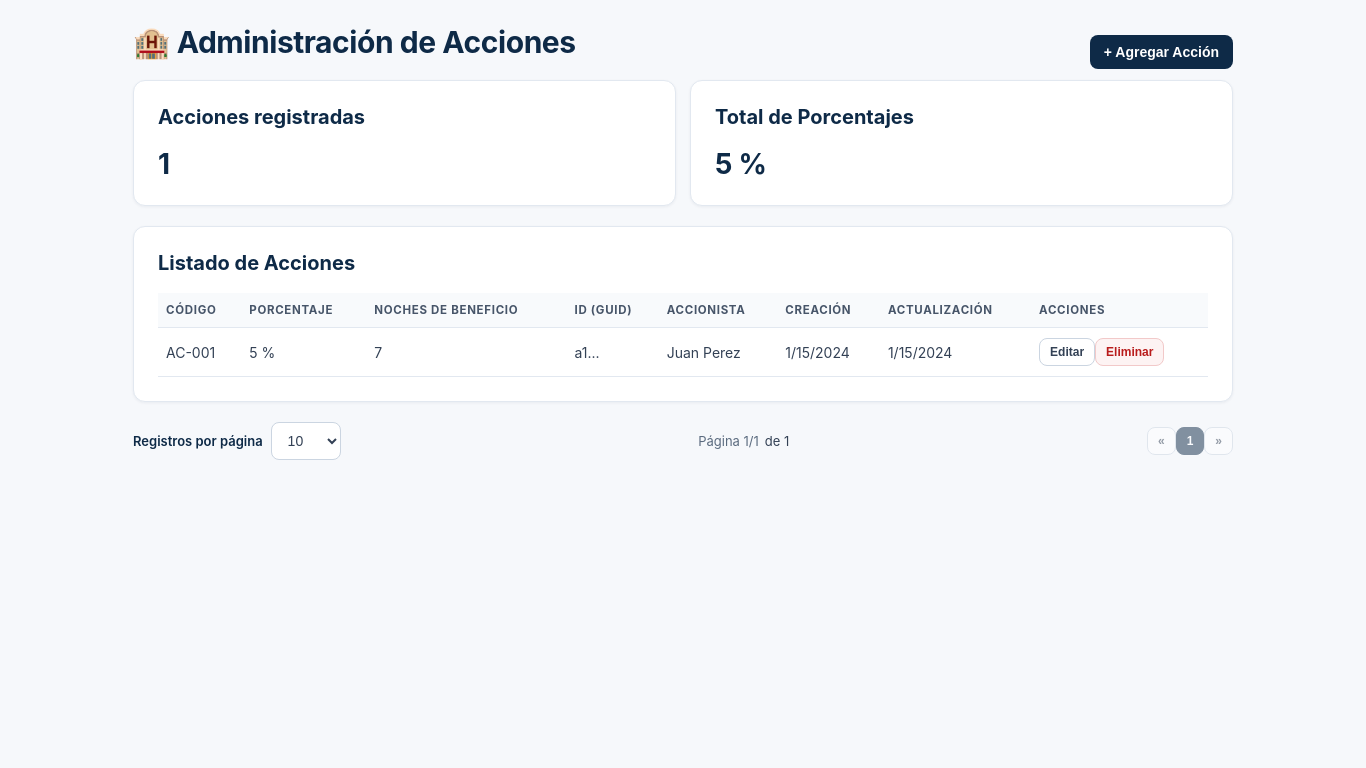
AccionesManager › pide confirmación en un popup antes de eliminar y envía DELETE al confirmar
The image size is (1366, 768).
Expected: the text "AC-001" is shown, top-left (158, 328), bottom-right (241, 377)
Step 1. Click the button "Eliminar" → (1130, 352), box top-left (1095, 338), bottom-right (1164, 366)
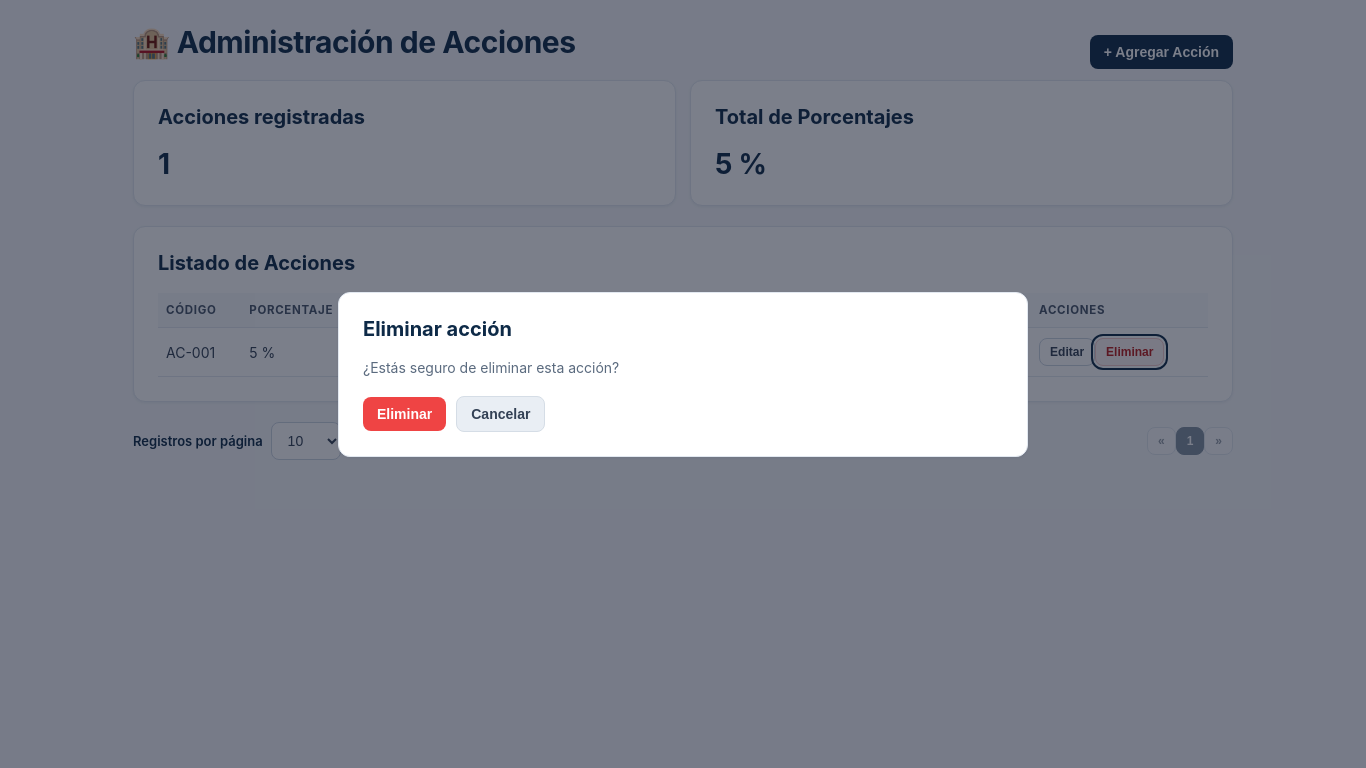
Expected: the dialog is shown, top-left (338, 292), bottom-right (1028, 456)
Expected: the text "¿Estás seguro de eliminar esta acción?" is shown, top-left (363, 358), bottom-right (619, 376)
Step 2. Click the button "Eliminar" → (405, 414), box top-left (363, 396), bottom-right (446, 430)
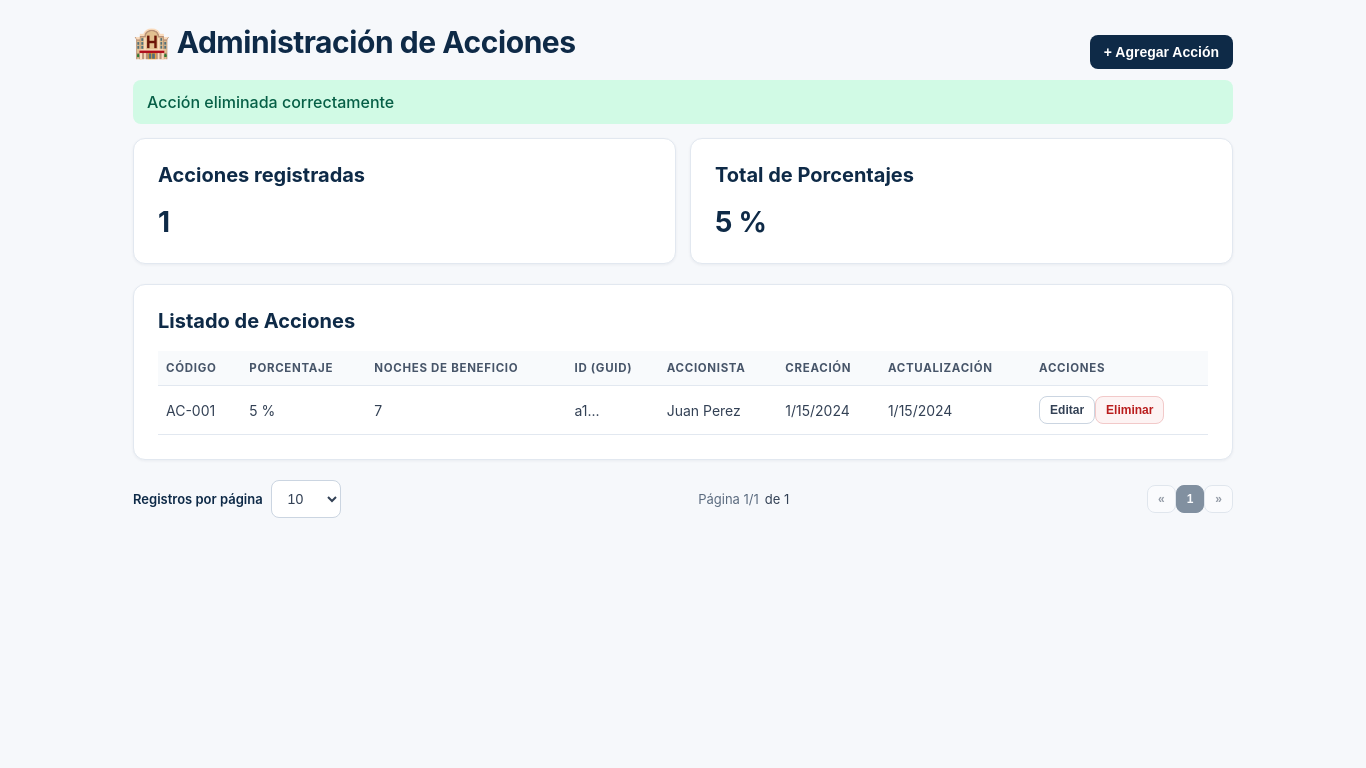
Expected: the dialog is gone
Expected: the text "Acción eliminada correctamente" is shown, top-left (133, 80), bottom-right (1233, 124)
